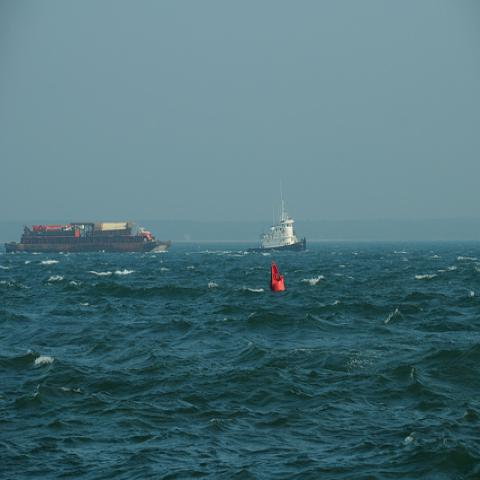truck: (92, 222, 155, 243)
